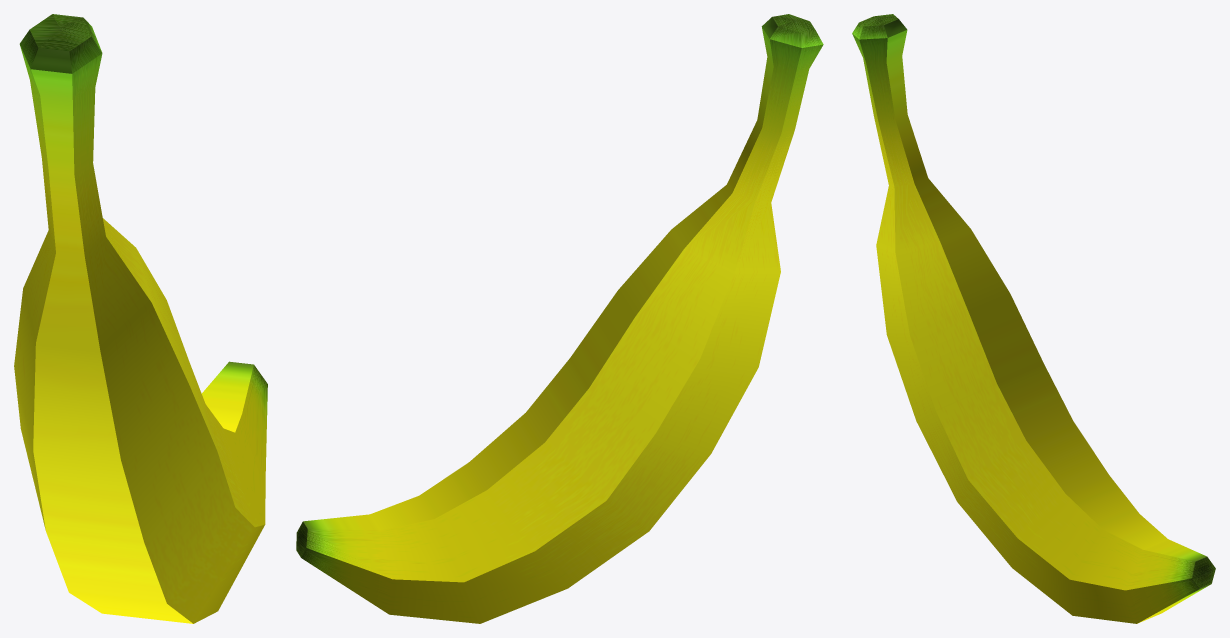
Rendered from ups_ba.ico.obj.
3 views of the same model, side by side, from view 1: azimuth 30°, elevation 25°; view 2: azimuth 150°, elevation 25°; view 3: azimuth 270°, elevation 25° (orthographic). The views are drawn at different scales.
Bounding box in the file's own units: 3.01 × 4.57 × 3.01.
1 material, 1 textured.
